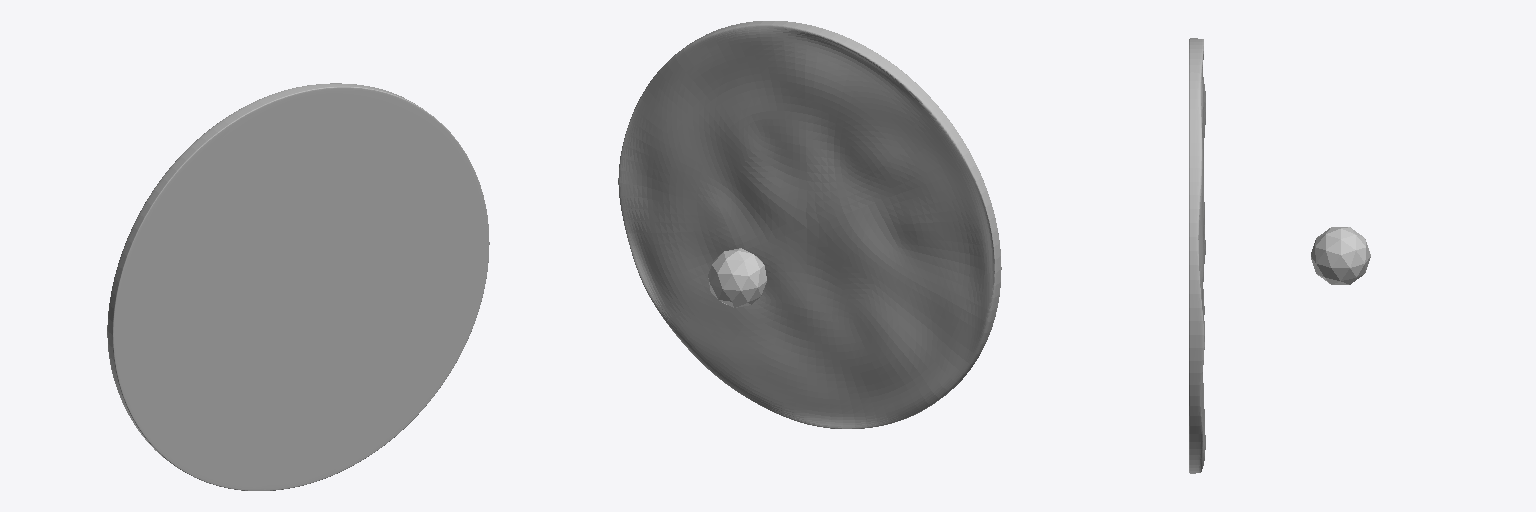
File: simple.obj
3 views of the same model, side by side, from view 1: azimuth 30°, elevation 25°; view 2: azimuth 150°, elevation 25°; view 3: azimuth 270°, elevation 25° (orthographic).
Visible parts, largest first — view 1: grass_grass.001; view 2: grass_grass.001, Icosphere; view 3: grass_grass.001, Icosphere.
Part boxes in pixels (x1,y1,x2,y2): grass_grass.001: (107,83,489,490); grass_grass.001: (618,21,1001,428); Icosphere: (708,248,766,307); grass_grass.001: (1189,38,1205,473); Icosphere: (1311,227,1370,284).
Bounding box in the file's own units: 14.34 × 14.34 × 6.